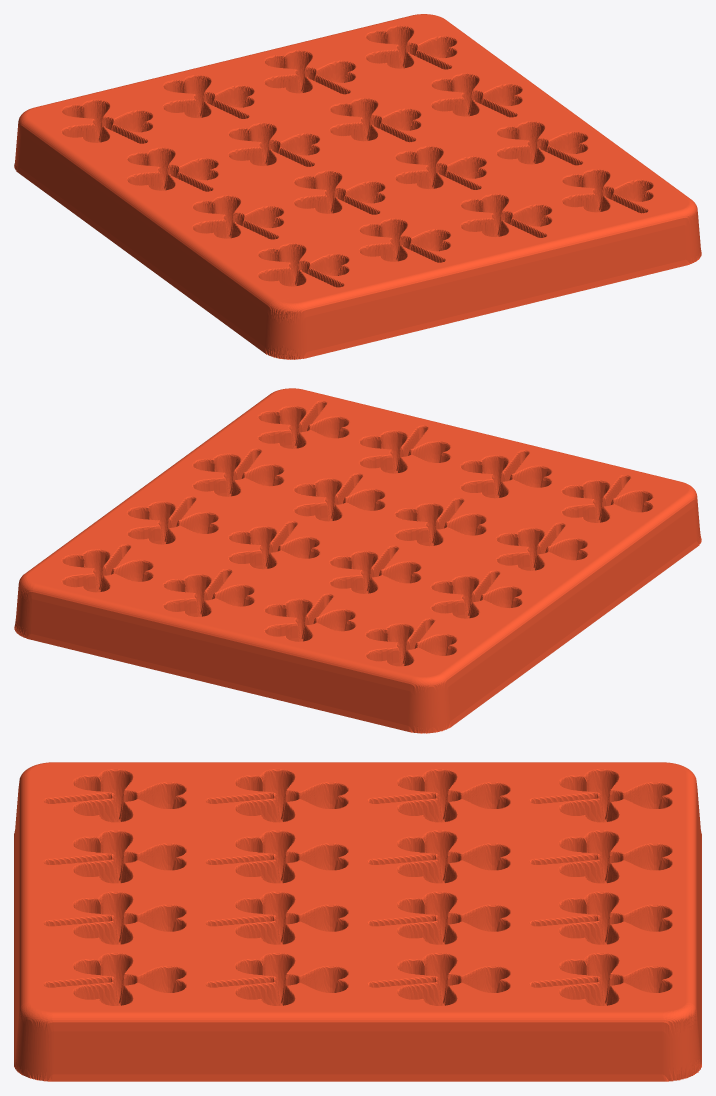
The model's file is mold.glb.
3 views of the same model, one above another, from view 1: azimuth 30°, elevation 25°; view 2: azimuth 150°, elevation 25°; view 3: azimuth 270°, elevation 25° (orthographic). The views are drawn at different scales.
Parts seen in each view (by area): view 1: geometry_0; view 2: geometry_0; view 3: geometry_0.
Boxes of the visible parts, x1,y1,x2,y2 form: geometry_0: [14, 14, 701, 359]; geometry_0: [14, 388, 701, 733]; geometry_0: [14, 762, 701, 1081].
Size of the model in its own units: 0.1413 by 0.0159 by 0.1569.
